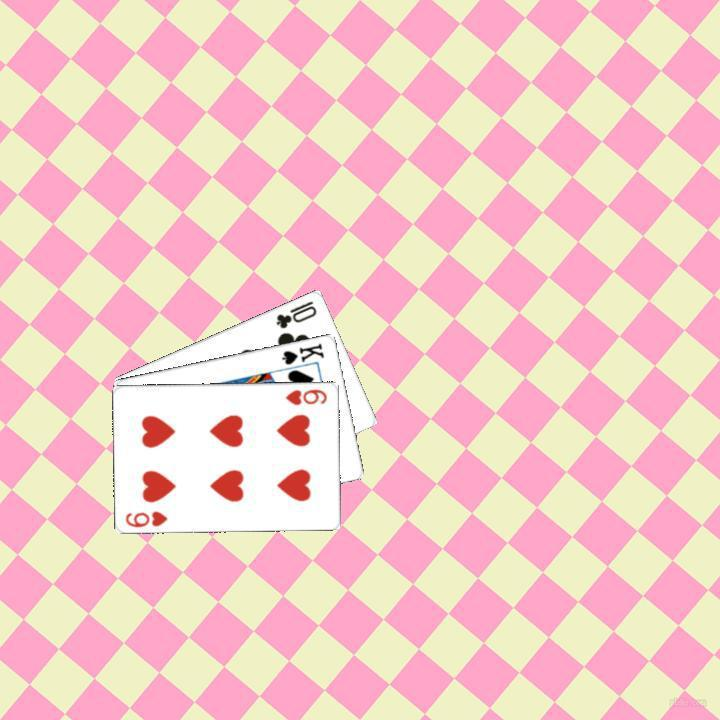10: (271, 296, 319, 330)
6: (282, 384, 329, 406), (122, 507, 169, 529)
K: (277, 338, 326, 366)
